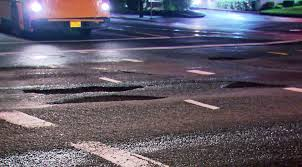pothole: (12, 75, 187, 118), (218, 71, 286, 102), (201, 51, 262, 66)
